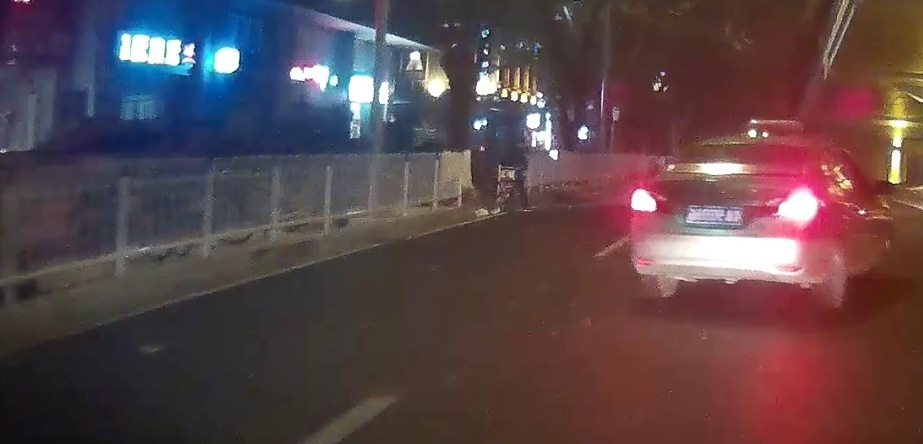L_light: (628, 187, 659, 213)
R_light: (776, 188, 825, 225)
T_light: (731, 142, 756, 149)
night-right: (629, 135, 826, 308)
